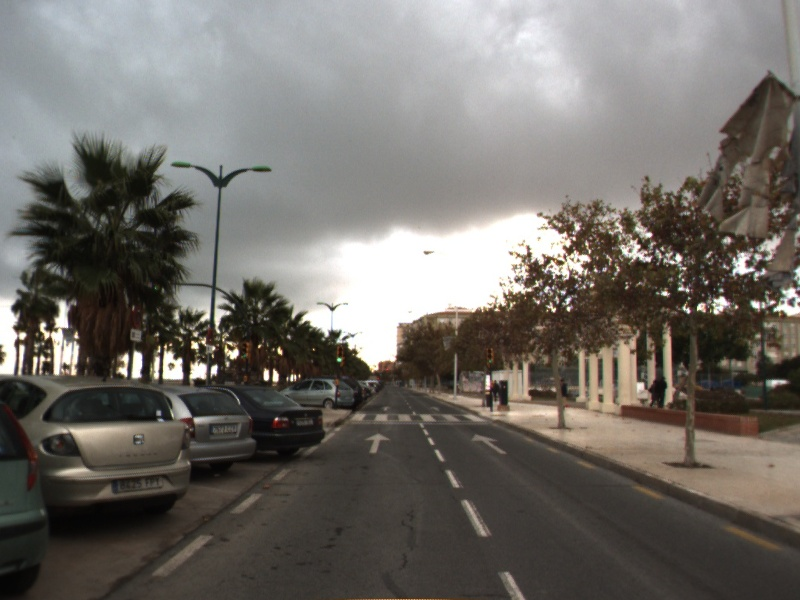STRAIGHT: (470, 433, 509, 456), (363, 431, 392, 455)
